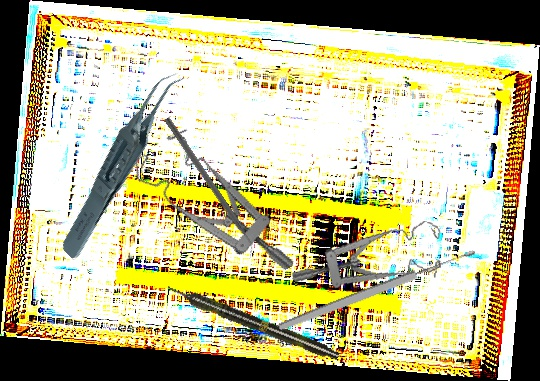Chopper: (156, 116, 261, 261)
Handpiece: (164, 280, 342, 364)
Speculum: (125, 110, 297, 312), (289, 199, 450, 307)
Surgical Spoon: (276, 246, 478, 334)
Tissue Forceps: (28, 66, 220, 262)
